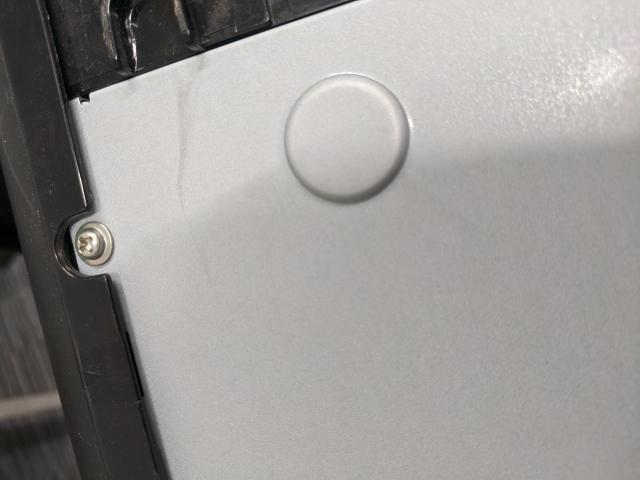CRS: (74, 228, 108, 262)
